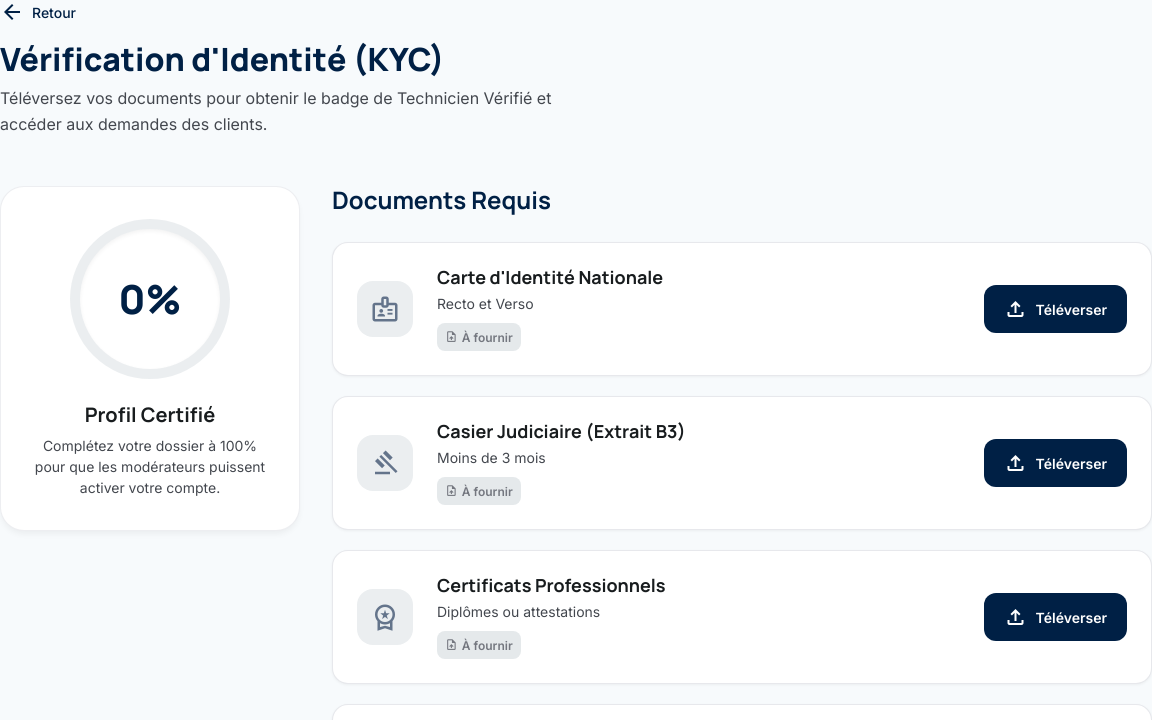
Test case: KYCStatus › refuse un fichier de plus de 5 Mo sans appeler le serveur
The image size is (1152, 720).
Step 1. Click the button "Téléverser" in the row of "Carte d'Identité Nationale" → {"x": 1055, "y": 309}, box [984,285,1127,333]
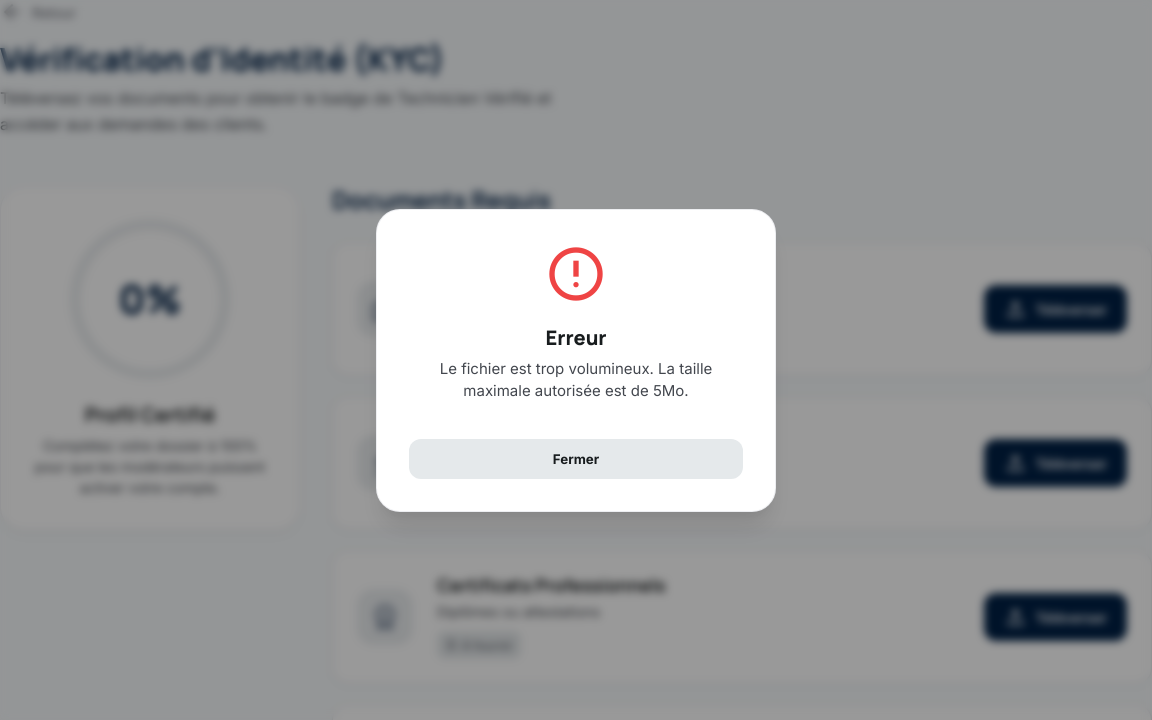
Check: the text "trop volumineux" is shown, box [440,358,712,400]
Step 2. Click the button "Fermer" → {"x": 576, "y": 458}, box [409,438,743,478]
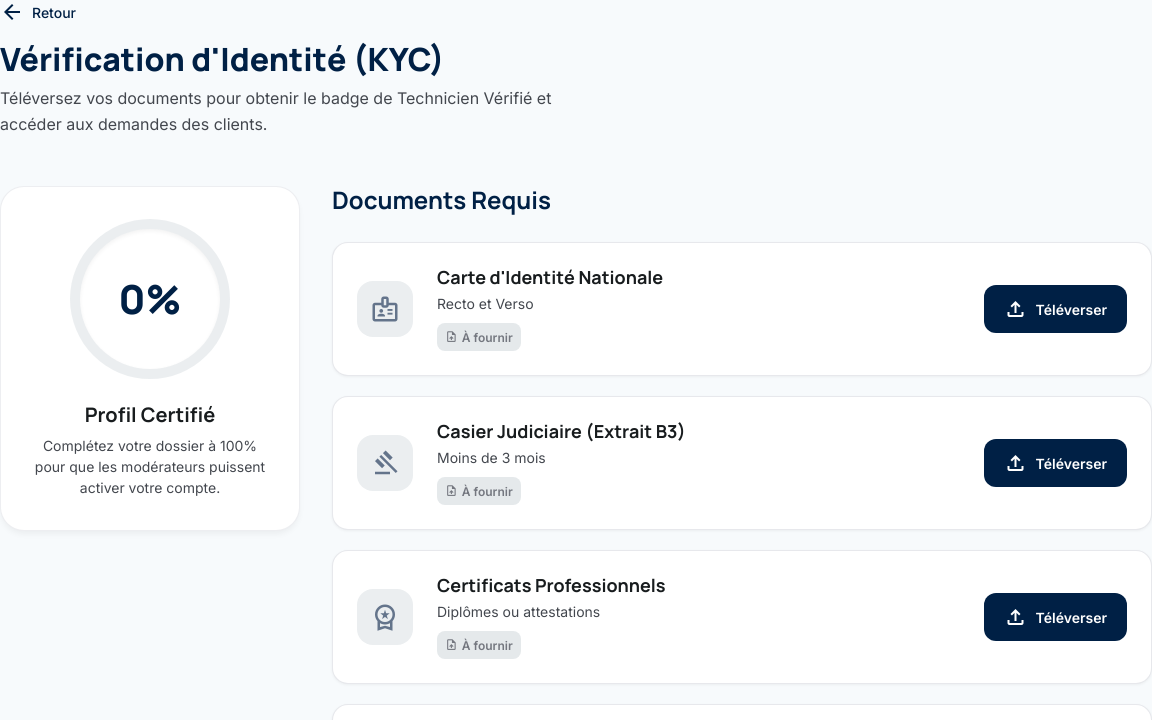
Check: the text "trop volumineux" is gone
